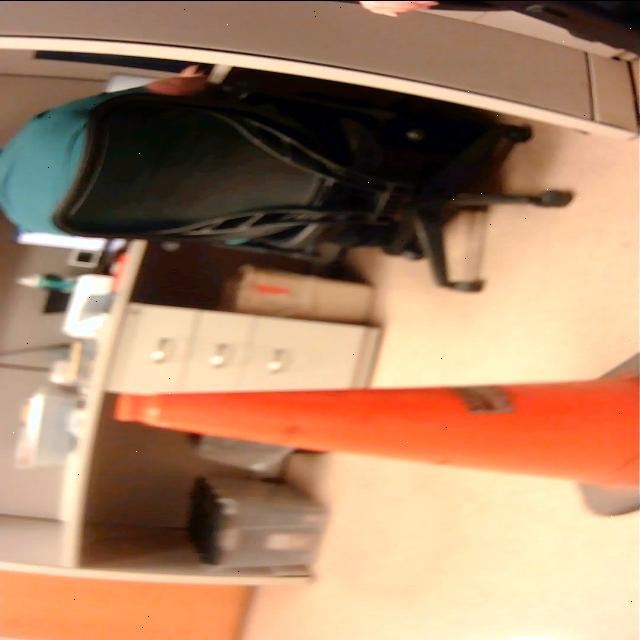traffic cone: (101, 340, 640, 525)
